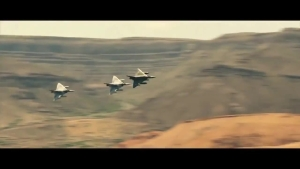flight: (126, 67, 156, 88), (104, 74, 131, 96), (47, 81, 75, 101)
